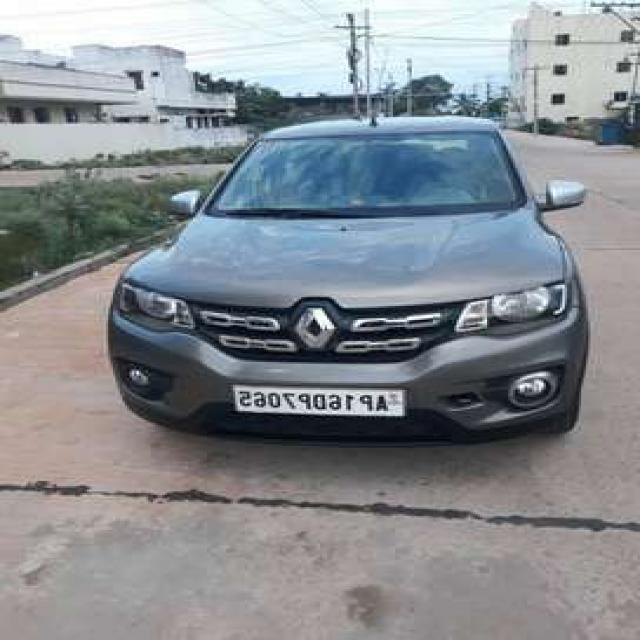license_plate: (232, 383, 411, 420)
